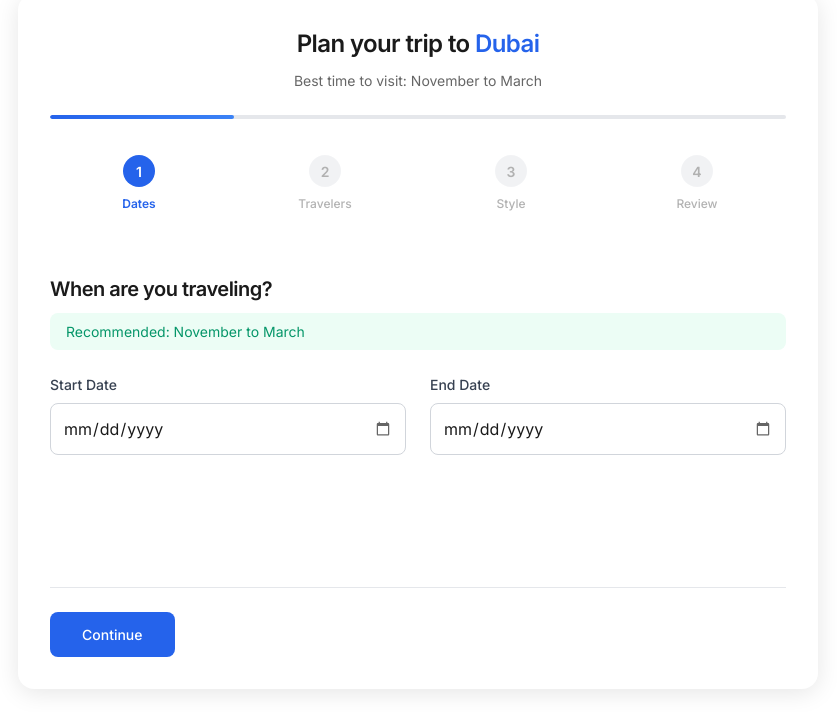
Scenario: TripSetupWizard Integration › Accessibility › should have accessible form structure throughout flow
Click the button "Continue" at (112, 634), box [50,612,174,657]
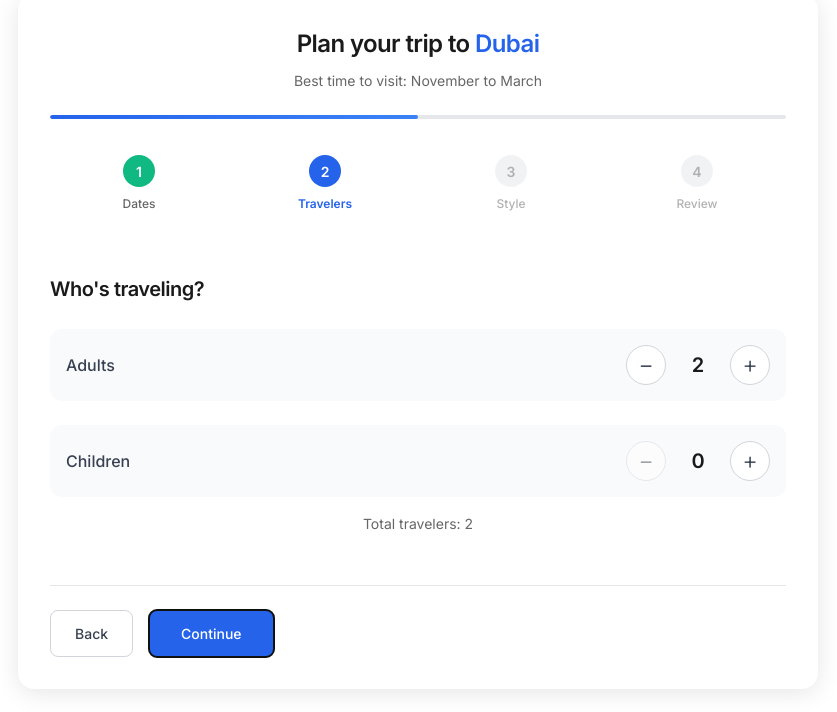
Check: the element with test id "step-travelers" is shown, box [50,257,786,550]
